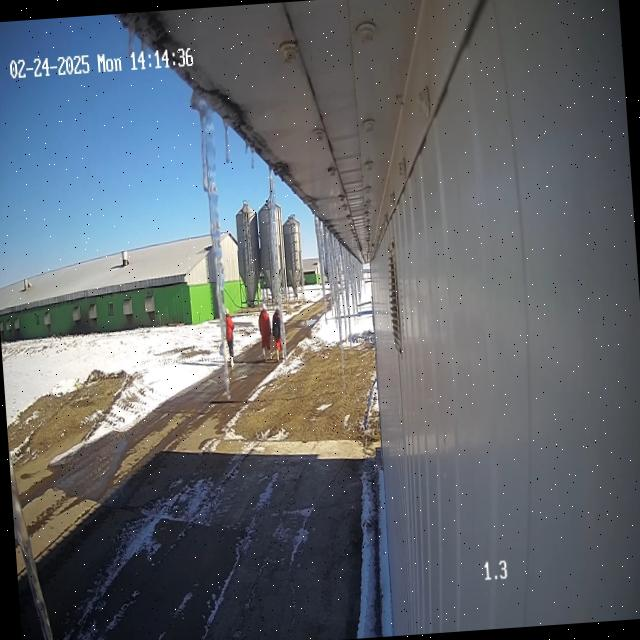Red uniform: (258, 304, 271, 360), (271, 308, 282, 361), (225, 311, 234, 366)
